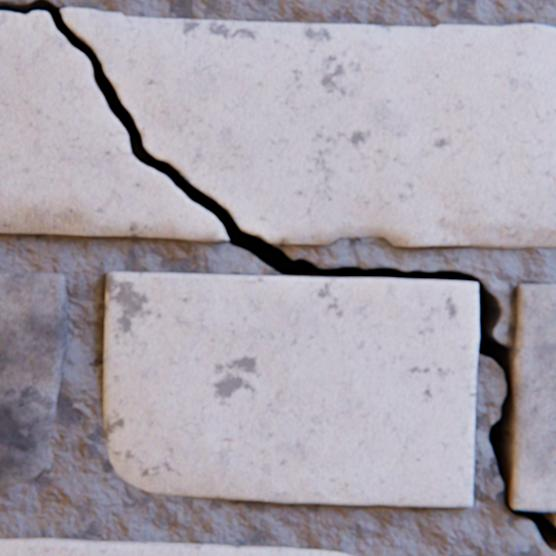brick: (104, 272, 477, 505), (0, 273, 67, 486), (509, 284, 555, 510), (0, 537, 354, 555)
broken_brick: (61, 9, 555, 248), (0, 12, 228, 241)
crack: (0, 0, 555, 554)
